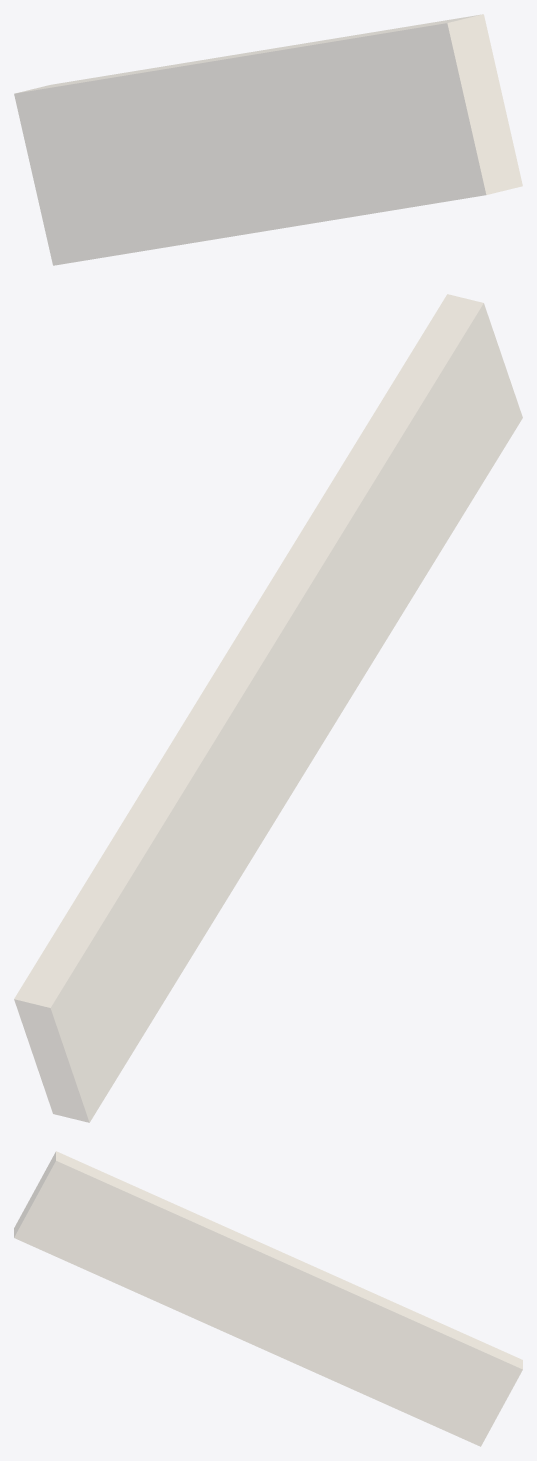
The picture shows the model from 3 angles, top to bottom: view 1: azimuth 30°, elevation 25°; view 2: azimuth 150°, elevation 25°; view 3: azimuth 270°, elevation 25°; orthographic projection. The views are drawn at different scales.
Visible parts, largest first — view 1: Grand Gallery; view 2: Grand Gallery; view 3: Grand Gallery.
Part boxes in pixels (box(x1,y1,x2,y2)): Grand Gallery: box(14, 14, 522, 265); Grand Gallery: box(14, 294, 522, 1122); Grand Gallery: box(14, 1151, 522, 1446).
Size of the model in its own units: 2.09 by 29.02 by 46.77.
